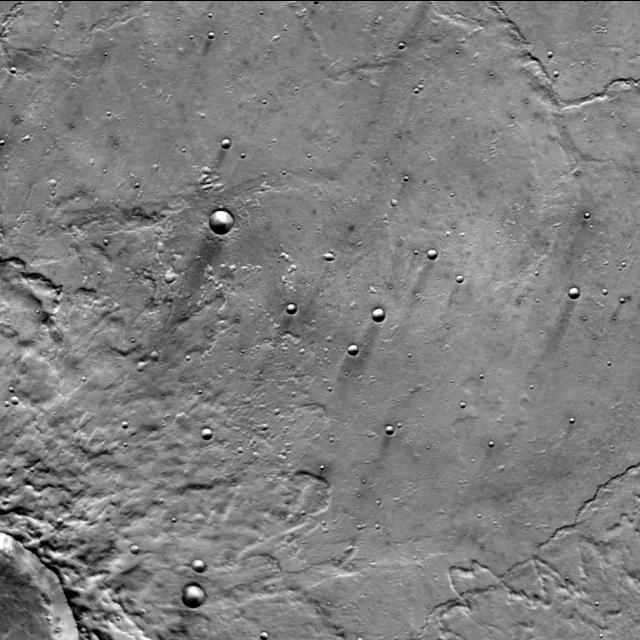crater: (208, 206, 232, 230), (182, 580, 204, 602), (369, 302, 383, 316), (192, 554, 204, 566), (200, 422, 212, 434), (161, 264, 173, 276), (566, 282, 578, 293), (346, 338, 356, 349), (284, 298, 294, 308), (134, 356, 144, 366), (126, 538, 136, 547), (426, 244, 435, 253), (321, 245, 330, 254), (154, 239, 163, 248), (10, 389, 18, 398), (258, 626, 266, 634), (220, 132, 228, 140), (260, 416, 268, 424), (148, 346, 156, 354), (212, 32, 220, 40), (382, 421, 390, 428), (242, 391, 250, 398), (62, 518, 69, 526), (56, 180, 63, 188), (126, 422, 133, 429), (462, 276, 468, 283), (589, 213, 595, 220), (559, 71, 565, 78), (290, 255, 296, 262), (15, 68, 22, 74), (402, 44, 408, 50), (398, 201, 403, 207), (7, 140, 11, 146), (361, 639, 367, 640)
